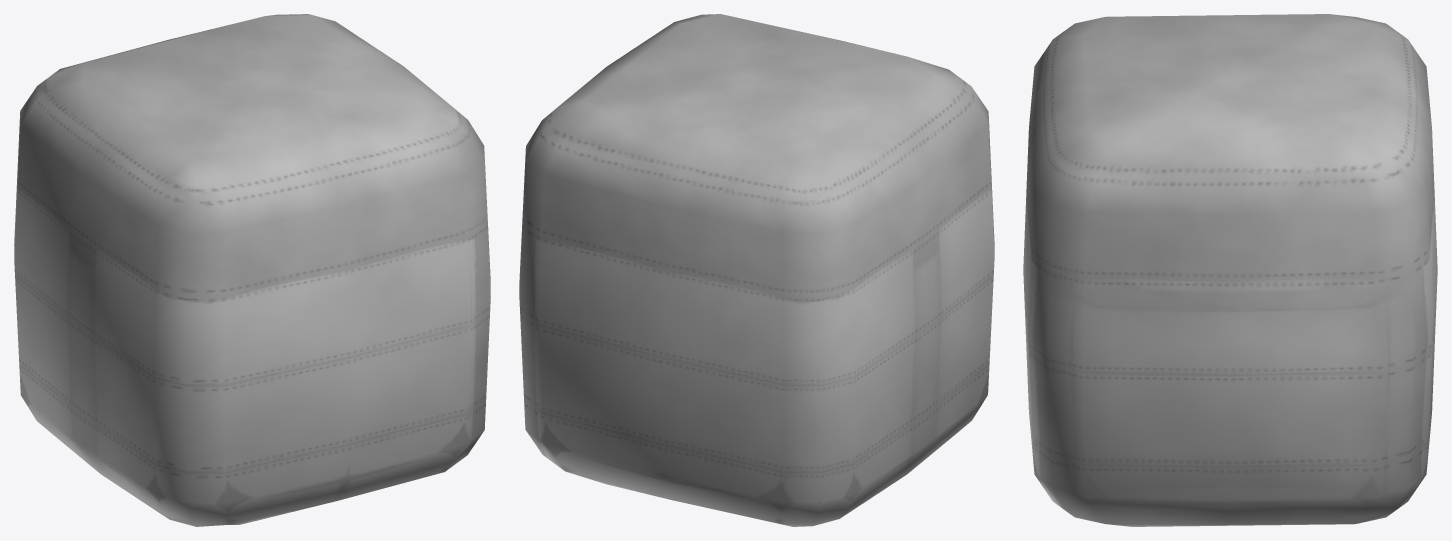
Rendered from RightLowerLeg_C1.fbx.
3 renders of one model, left to right at view 1: azimuth 30°, elevation 25°; view 2: azimuth 150°, elevation 25°; view 3: azimuth 270°, elevation 25°, orthographic. The views are drawn at different scales.
Visible parts, largest first — view 1: Civ_Mameluco_RightLowerLeg_C1; view 2: Civ_Mameluco_RightLowerLeg_C1; view 3: Civ_Mameluco_RightLowerLeg_C1.
Boxes of the visible parts, x1,y1,x2,y2 form: Civ_Mameluco_RightLowerLeg_C1: (14, 14, 490, 526); Civ_Mameluco_RightLowerLeg_C1: (519, 14, 994, 526); Civ_Mameluco_RightLowerLeg_C1: (1023, 14, 1437, 526).
Bounding box in the file's own units: 1.31 × 1.37 × 1.29.
